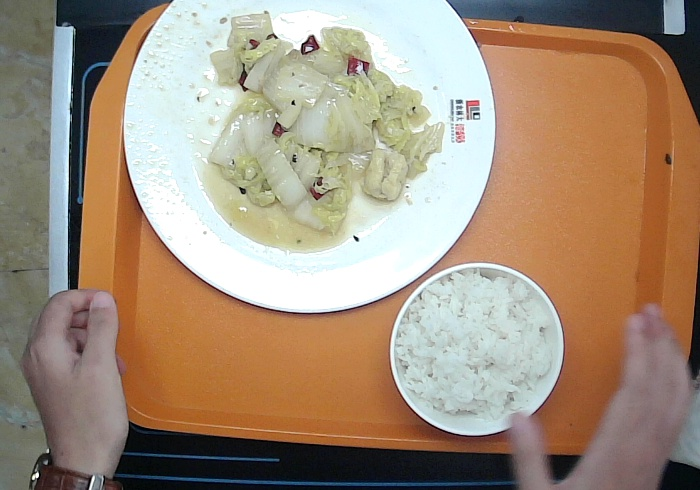ZNLD-Da_Yuan_Pan: (121, 9, 497, 317)
ZNLD-Fan_Wan: (386, 261, 565, 437)
